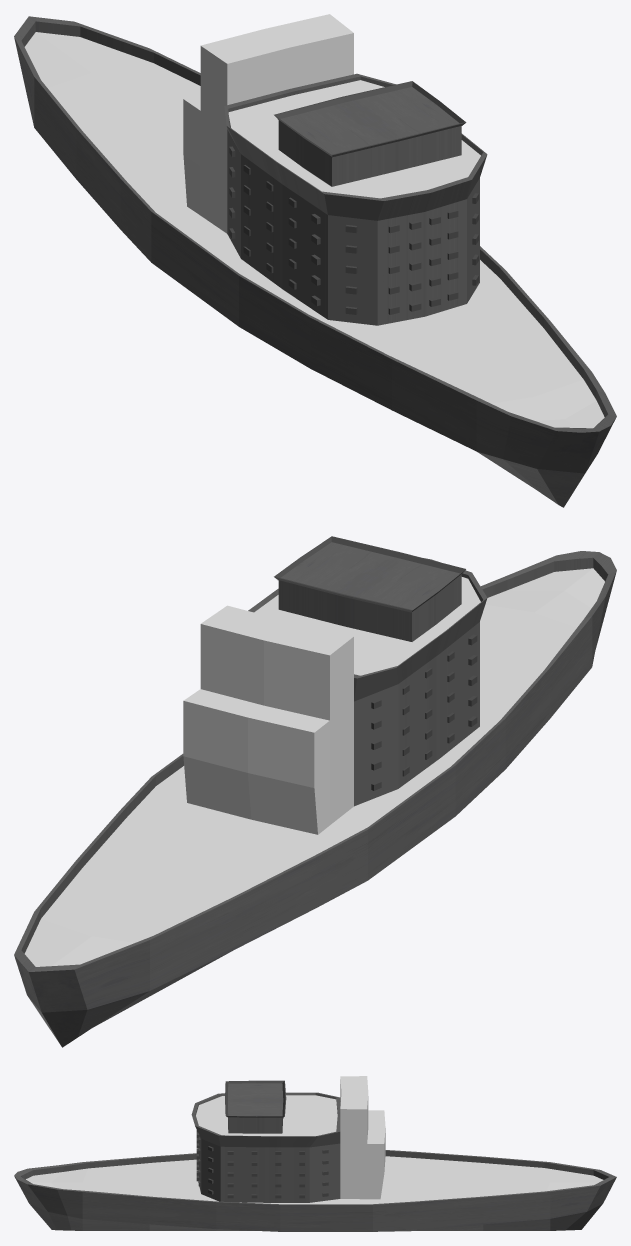
The model's file is EnemyShip.fbx.
3 views of the same model, one above another, from view 1: azimuth 30°, elevation 25°; view 2: azimuth 150°, elevation 25°; view 3: azimuth 270°, elevation 25° (orthographic). The views are drawn at different scales.
Visible parts, largest first — view 1: Cube.002, Floor.001, Cube.009; view 2: Cube.002, Floor.001, Cube.009; view 3: Cube.002, Floor.001, Cube.009.
Part boxes in pixels (x1=…): Cube.002: x1=14, y1=14, x2=616, y2=507; Floor.001: x1=24, y1=32, x2=604, y2=428; Cube.009: x1=229, y1=146, x2=478, y2=314; Cube.002: x1=14, y1=536, x2=616, y2=1047; Floor.001: x1=24, y1=568, x2=604, y2=966; Cube.009: x1=371, y1=634, x2=477, y2=790; Cube.002: x1=14, y1=1076, x2=616, y2=1231; Floor.001: x1=26, y1=1095, x2=603, y2=1204; Cube.009: x1=196, y1=1130, x2=328, y2=1198.
Size of the model in its own units: 222 by 256 by 1012.
7 materials, 3 textured.
